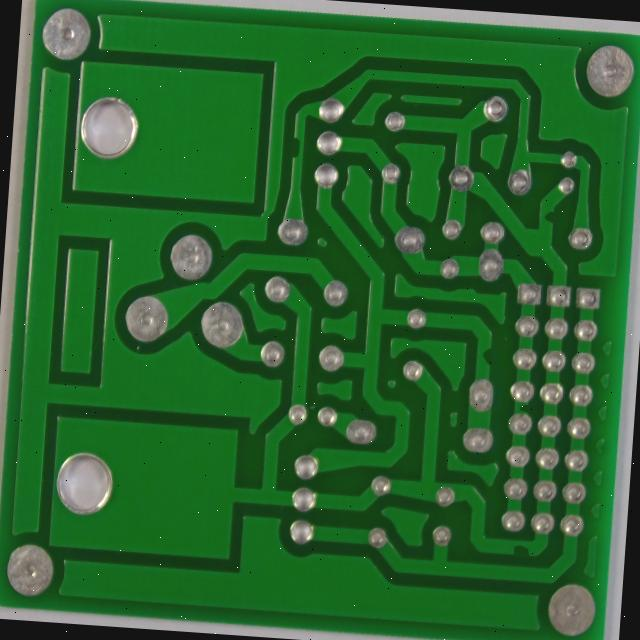mouse_bite: (305, 146, 329, 179), (506, 375, 532, 405), (542, 587, 571, 613), (574, 226, 599, 250), (546, 436, 572, 457)
